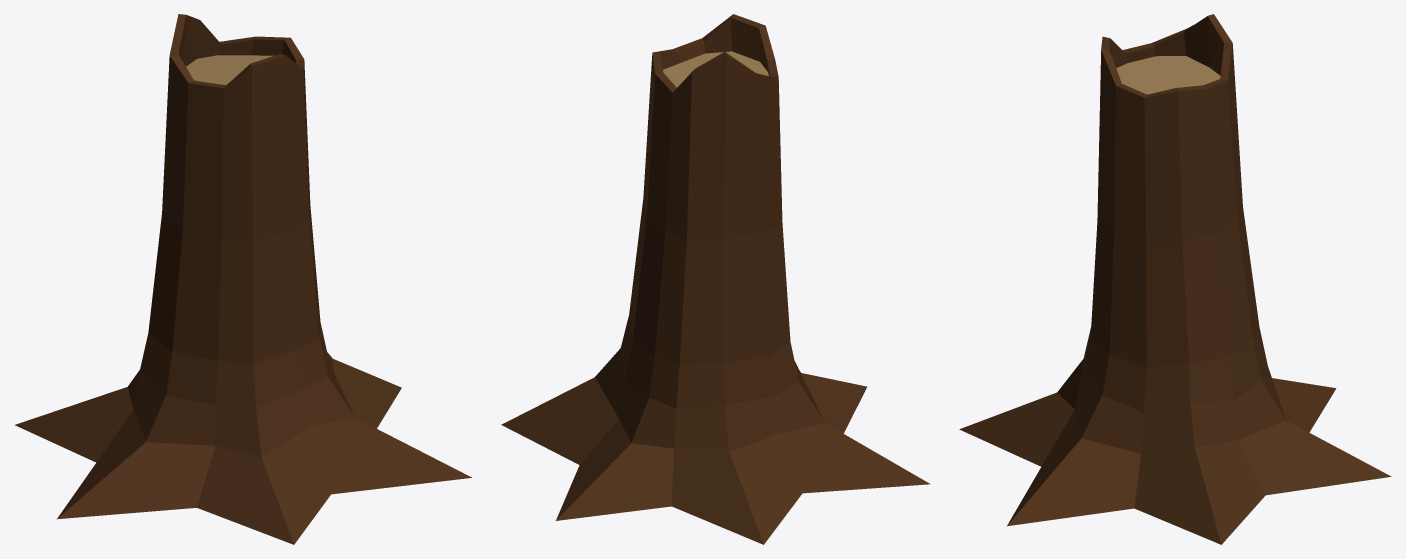
File: Stump2.fbx
3 views of the same model, side by side, from view 1: azimuth 30°, elevation 25°; view 2: azimuth 150°, elevation 25°; view 3: azimuth 270°, elevation 25° (orthographic). The views are drawn at different scales.
Visible parts, largest first — view 1: Cylinder.008; view 2: Cylinder.008; view 3: Cylinder.008.
Part boxes in pixels (x1=…): Cylinder.008: x1=15, y1=14, x2=471, y2=544; Cylinder.008: x1=501, y1=14, x2=930, y2=544; Cylinder.008: x1=959, y1=14, x2=1391, y2=544.
Size of the model in its own units: 146 by 154 by 143.
